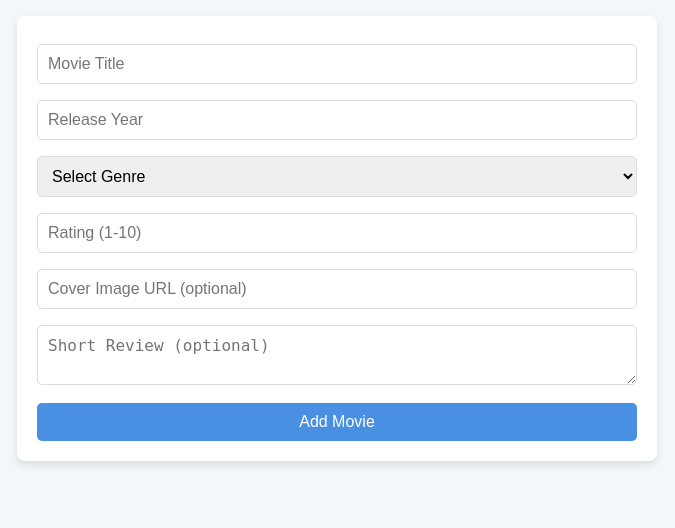
Scenario: MovieForm Component › displays an error when release year is invalid
In the field with placeholder "Movie Title": {"x": 337, "y": 64} [37,44,637,84], type "Test Movie"
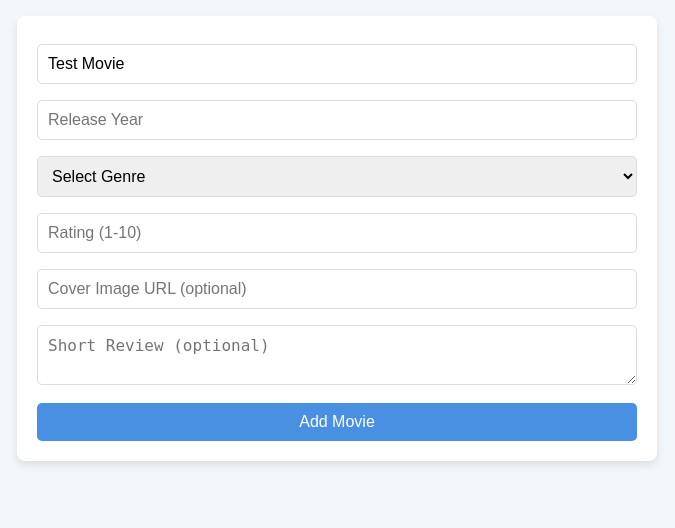
In the number field with placeholder "Release Year": {"x": 337, "y": 120} [37,100,637,140], type "1700"
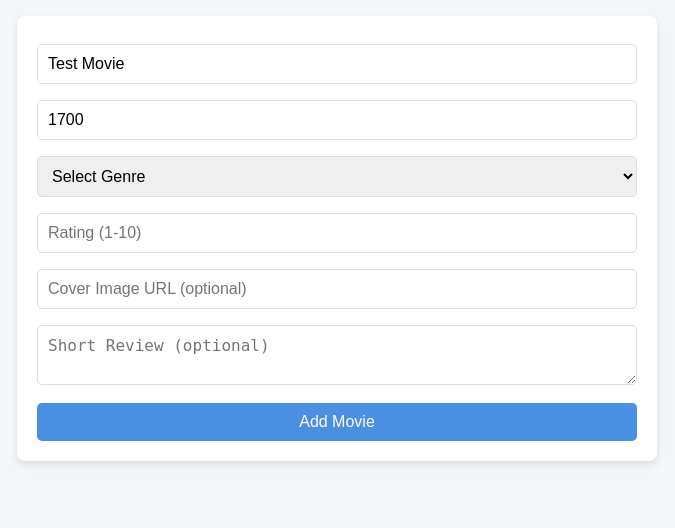
Select "Action" in the dropdown: {"x": 337, "y": 176} [37,156,637,197]
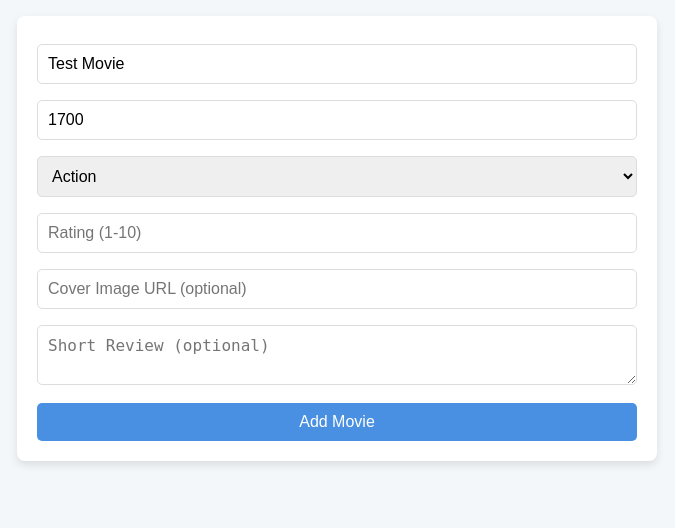
In the number field with placeholder "Rating (1-10)": {"x": 337, "y": 233} [37,213,637,253], type "8"
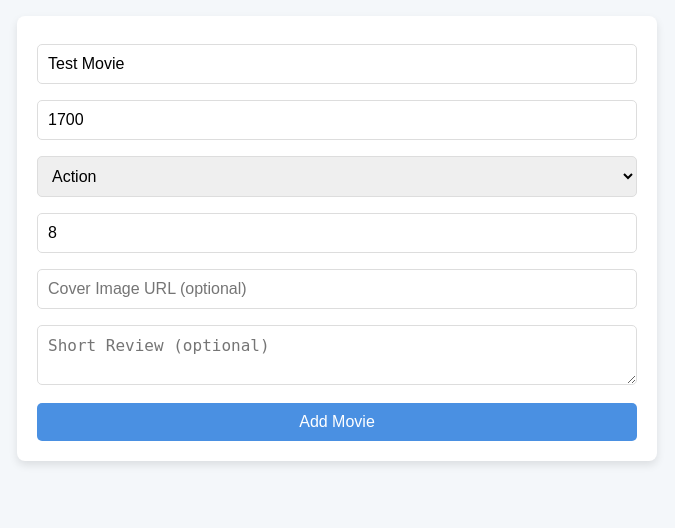
Click the button "Add Movie": {"x": 337, "y": 422} [37,403,637,441]
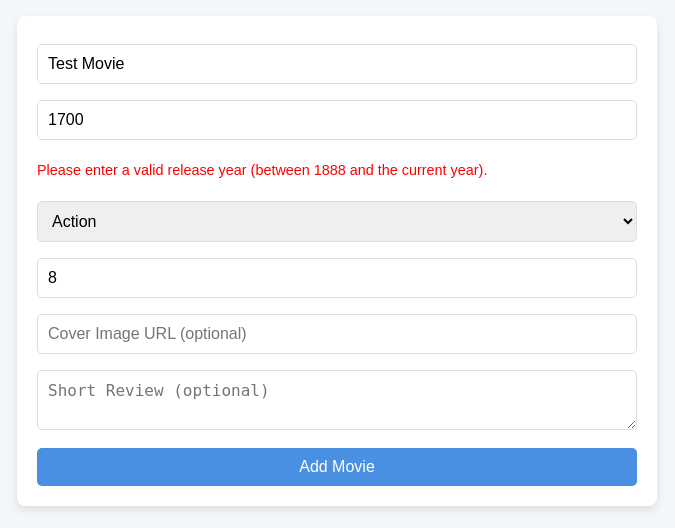
expect the text "Please enter a valid release year (between 1888 and the current year)." is shown: met, box [37,162,487,178]
